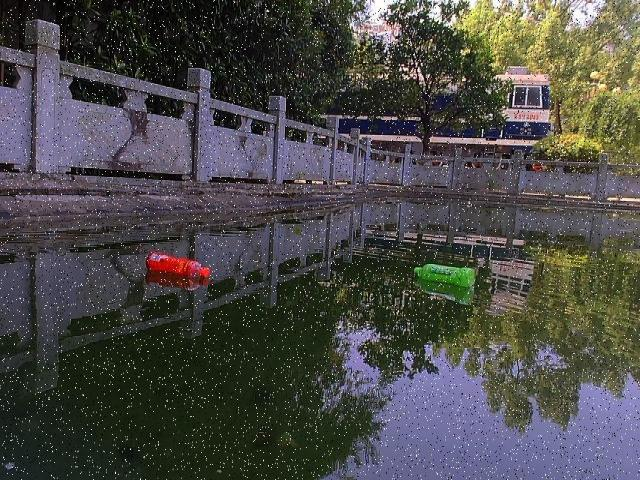Bottle: (141, 246, 216, 284), (405, 260, 480, 291)
